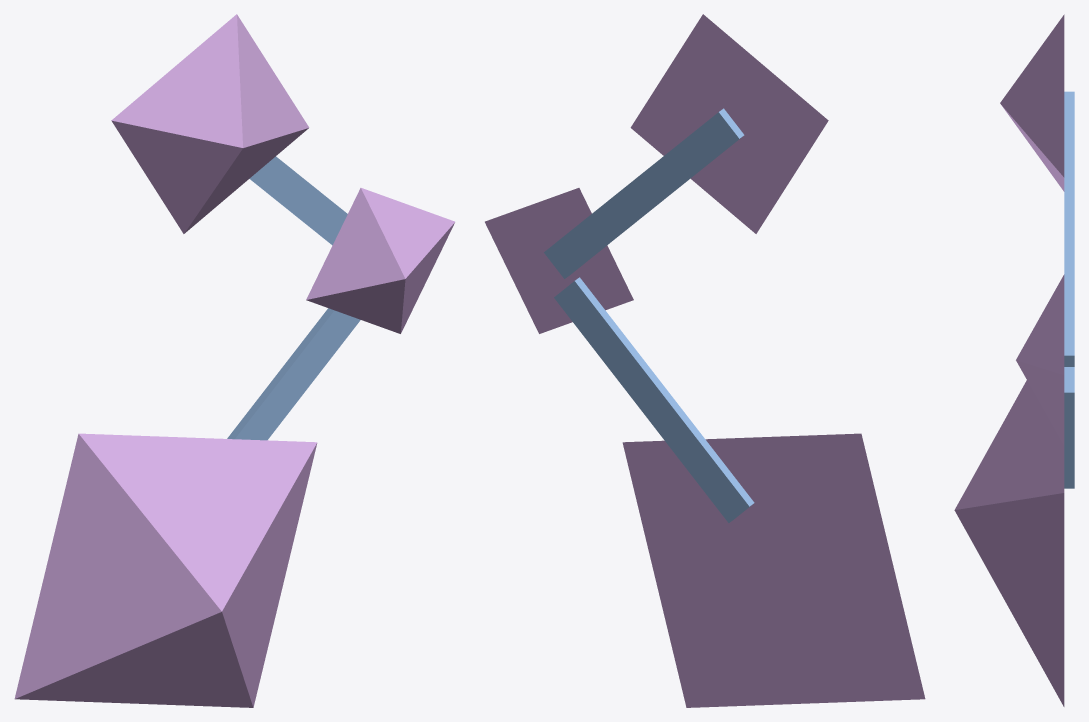
Rendered from walldecor3.fbx.
The picture shows the model from 3 angles, left to right: view 1: azimuth 30°, elevation 25°; view 2: azimuth 150°, elevation 25°; view 3: azimuth 270°, elevation 25°; orthographic projection.
Visible parts, largest first — view 1: walldecor3_low; view 2: walldecor3_low; view 3: walldecor3_low.
Part boxes in pixels (bbox=[...]): walldecor3_low: bbox=[14, 14, 454, 707]; walldecor3_low: bbox=[485, 14, 925, 707]; walldecor3_low: bbox=[954, 14, 1074, 706].
Size of the model in its own units: 1.78 by 2.7 by 0.4276.
